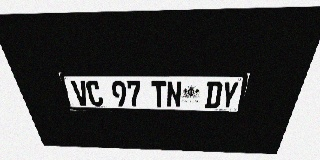7: (126, 81, 142, 107)
9: (111, 81, 128, 107)
C: (85, 80, 104, 106)
D: (204, 81, 223, 108)
N: (166, 81, 182, 108)
T: (151, 81, 166, 107)
V: (70, 80, 90, 106)
Y: (219, 81, 239, 109)
